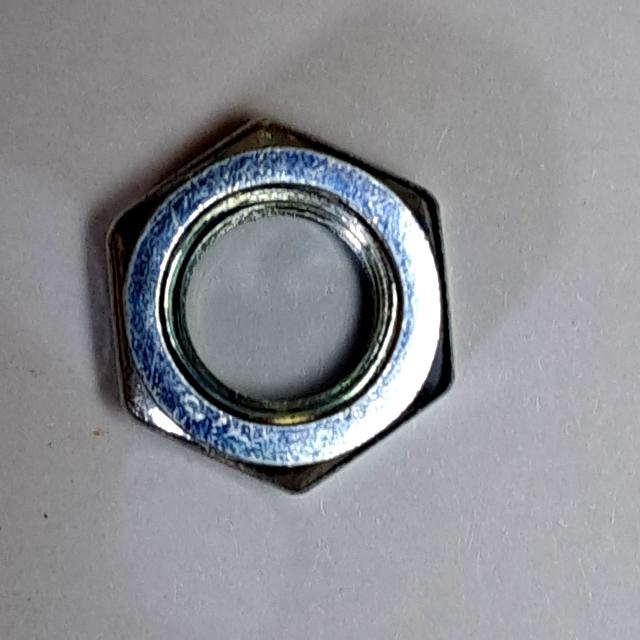Excellent: (94, 102, 476, 508)
